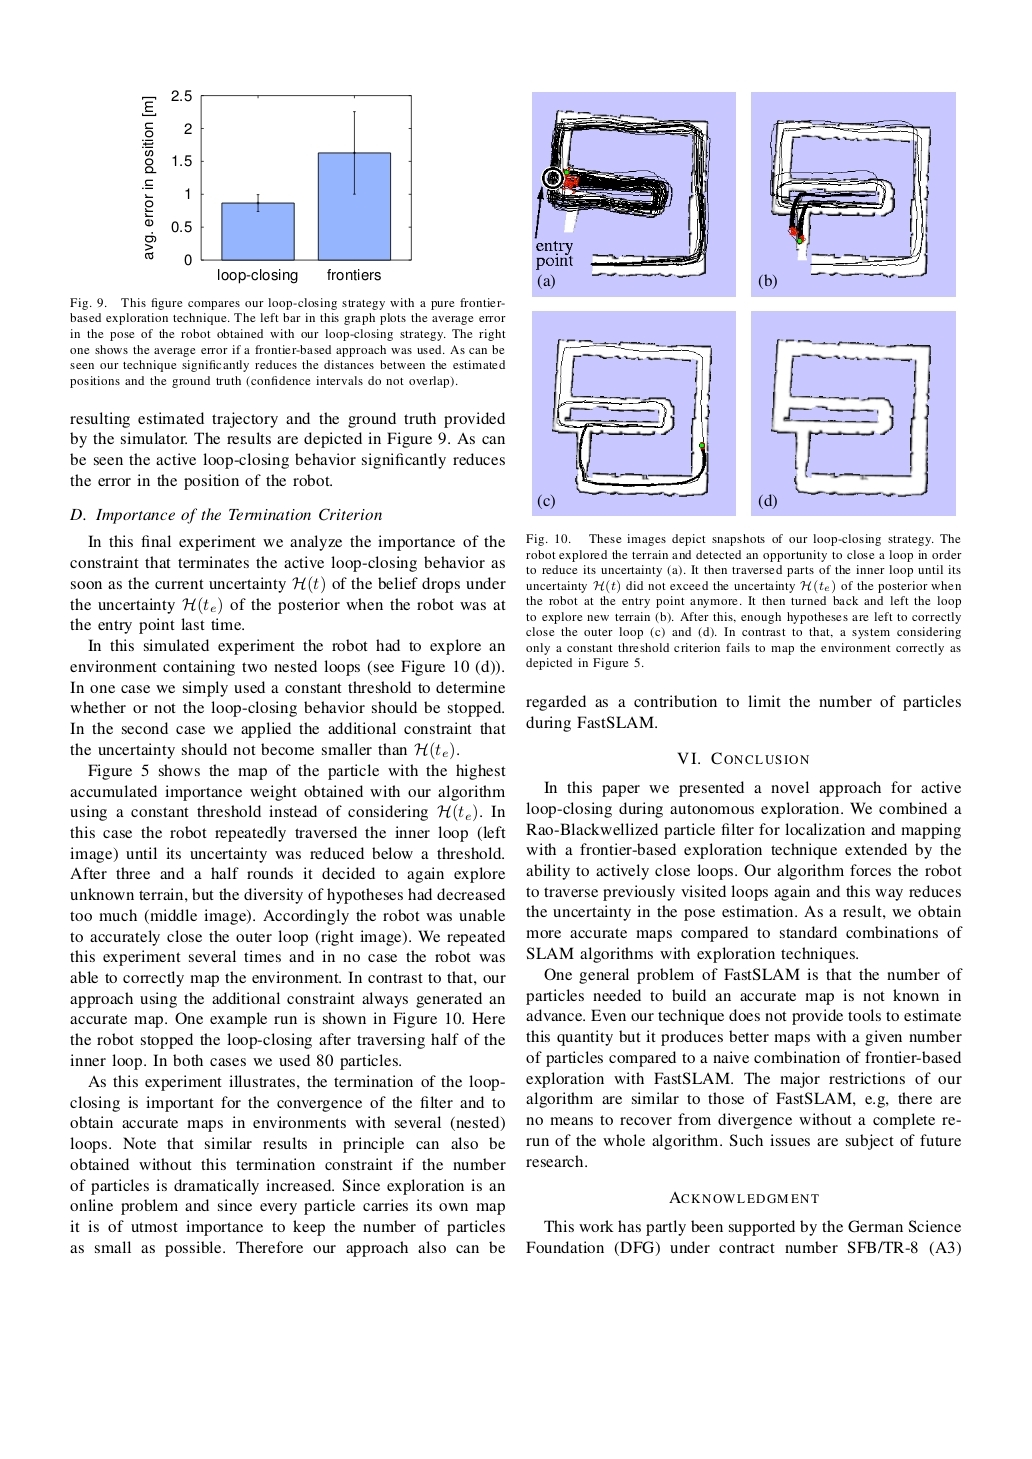figure: (142, 90, 411, 284), (751, 92, 955, 296), (532, 92, 735, 296), (751, 311, 955, 515), (532, 311, 735, 515)
